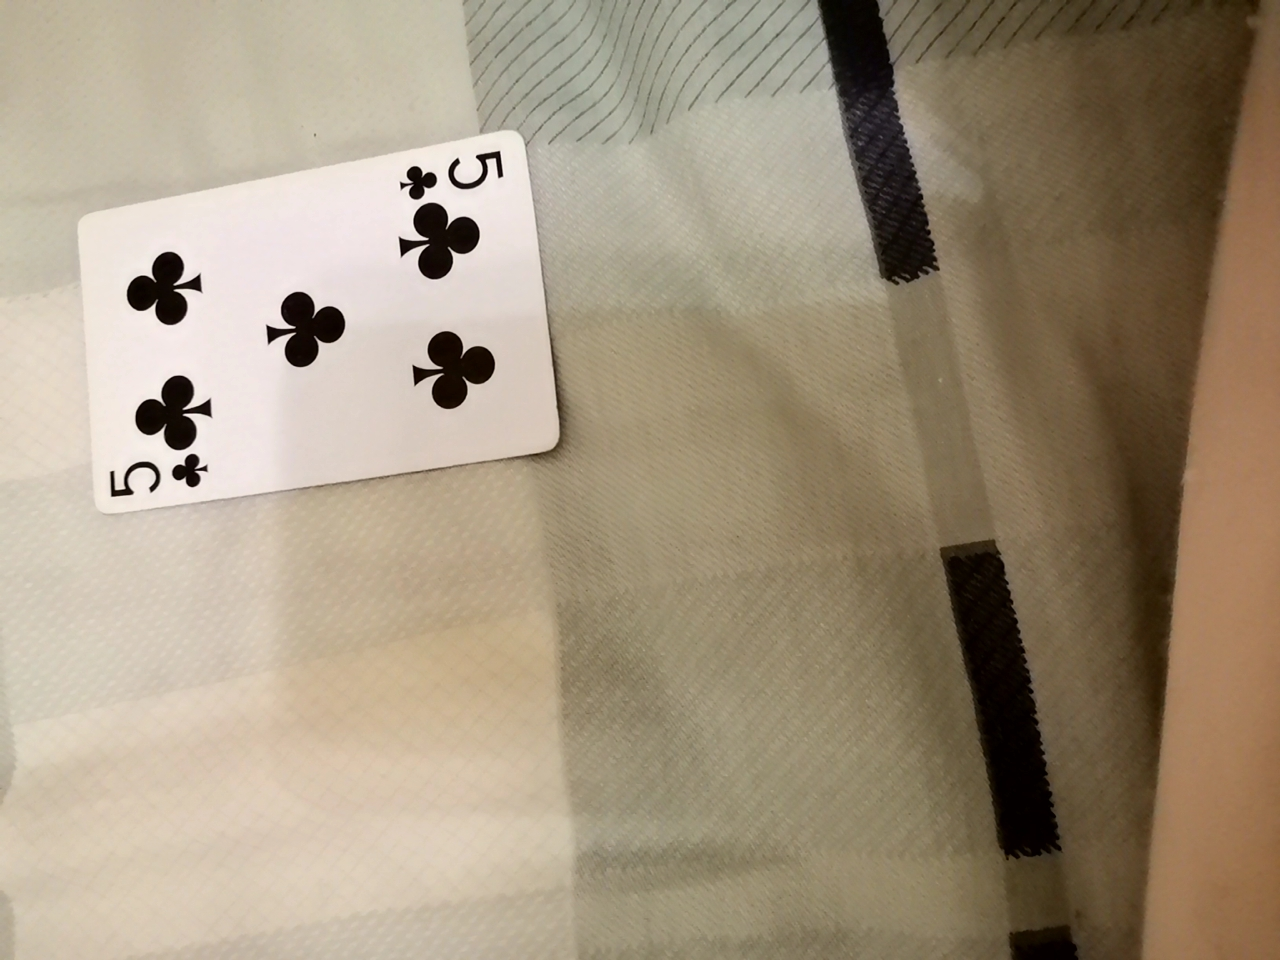mh 5: (70, 132, 559, 516)
